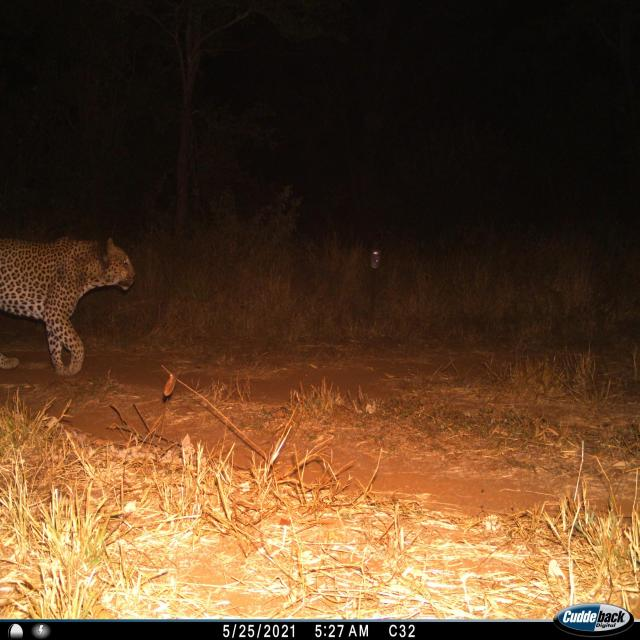Leopard: (0, 223, 142, 401)
